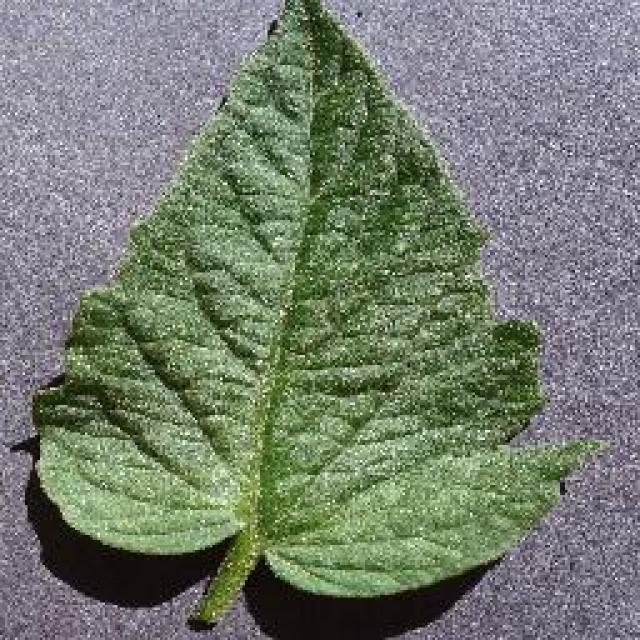healthy: (33, 0, 595, 628)
